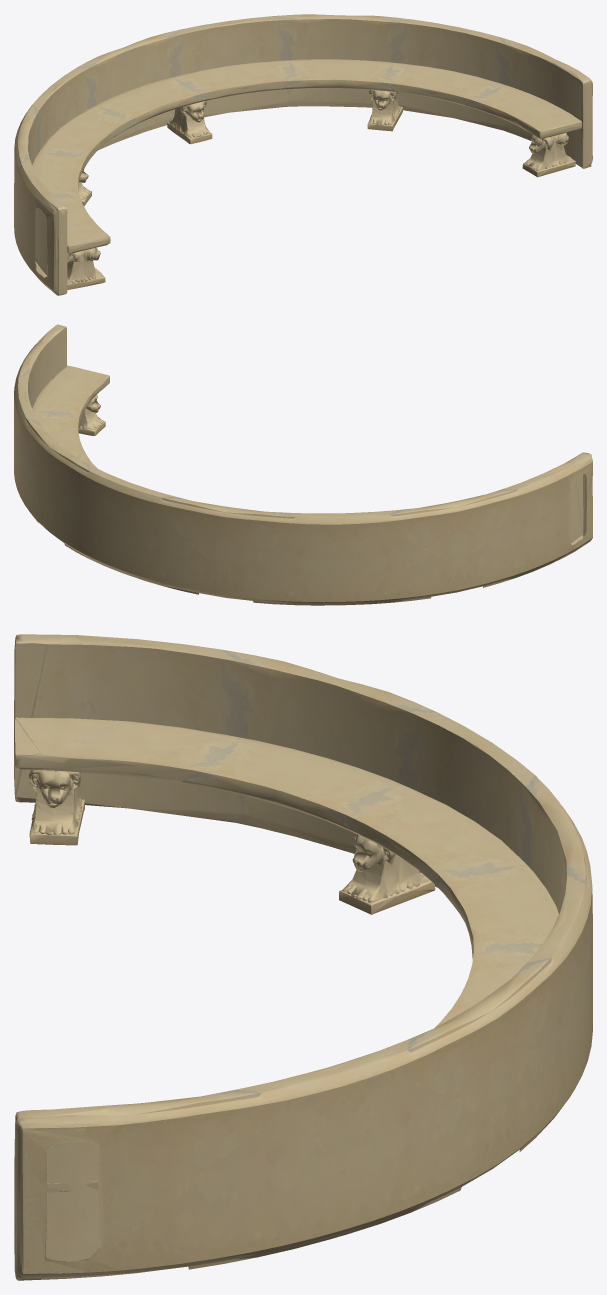
The model's file is exedra-bench.glb.
3 renders of one model, top to bottom at view 1: azimuth 30°, elevation 25°; view 2: azimuth 150°, elevation 25°; view 3: azimuth 270°, elevation 25°, orthographic. The views are drawn at different scales.
Parts seen in each view (by area): view 1: exedra-bench; view 2: exedra-bench; view 3: exedra-bench.
Part boxes in pixels (box(x1,y1,x2,y2)): exedra-bench: box(14, 14, 592, 295); exedra-bench: box(14, 324, 592, 605); exedra-bench: box(14, 634, 592, 1280).
Size of the model in its own units: 5.3 by 0.8408 by 2.65.
Materials: 1 (1 with a texture image).
